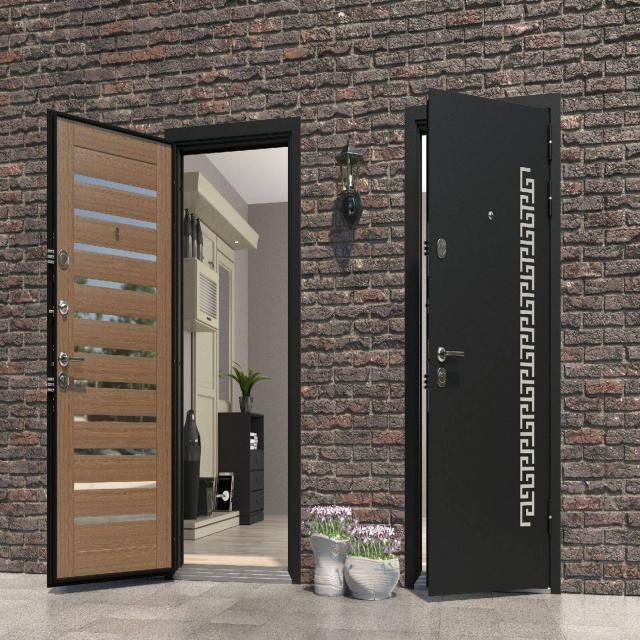open: (62, 126, 302, 580), (407, 111, 566, 598)
